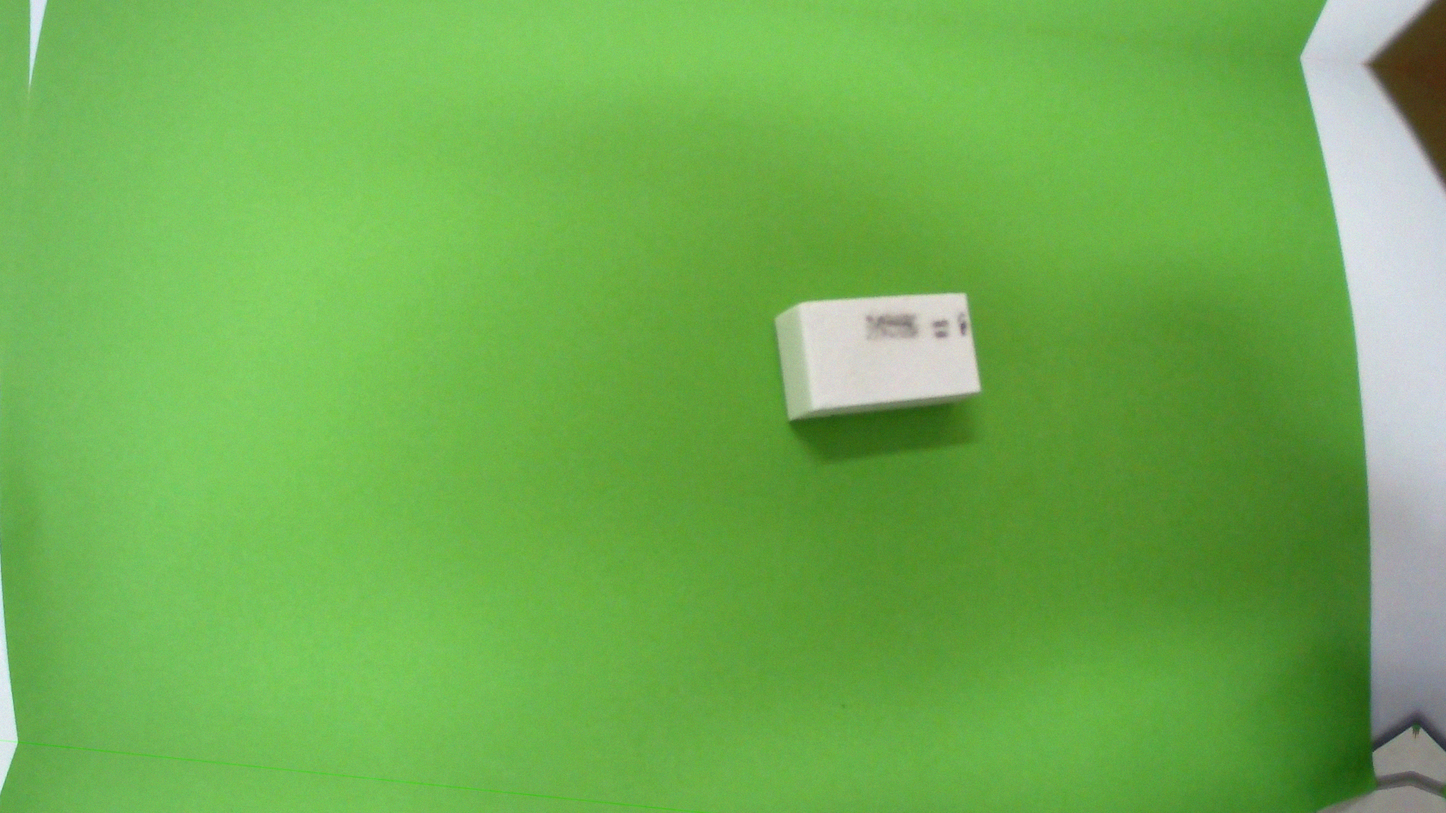gom: (765, 266, 989, 446)
